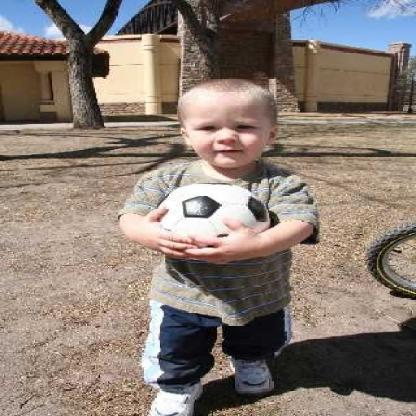ball: (155, 183, 273, 265)
